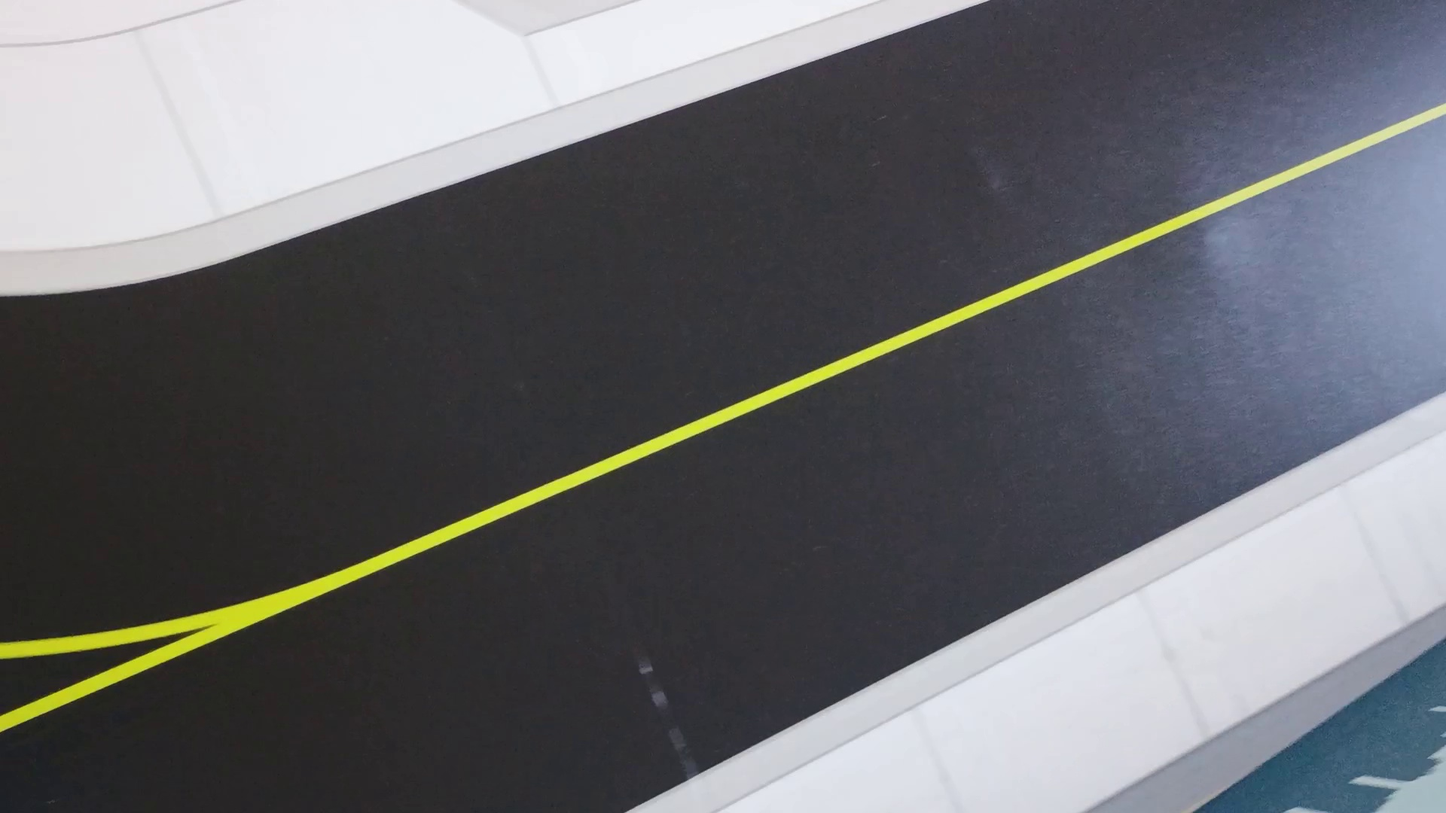Solid: (0, 104, 1445, 731)
Street: (0, 0, 1445, 812)
